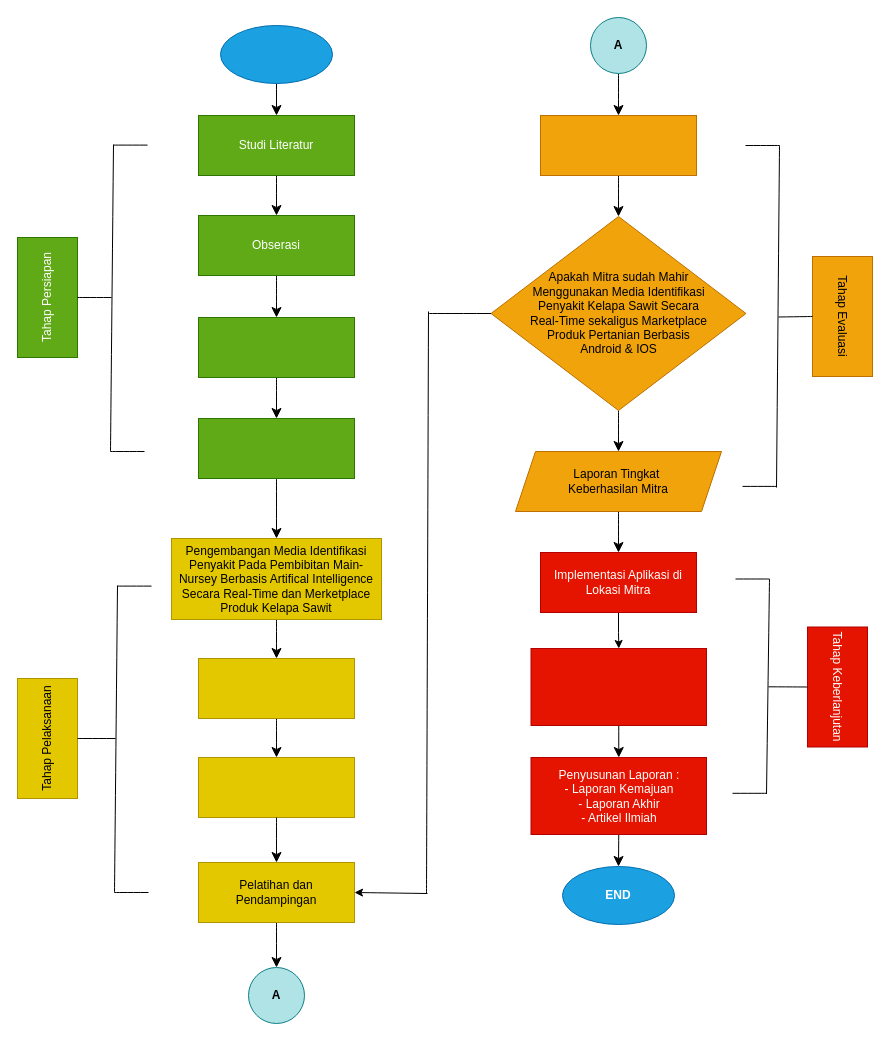
Some shapes in this 890 by 1041 pixel diagram are drawn without their labels. The shapes that lost their labels are listed below. From the top down, each one's centre as x and y in pixels, then its label:
At pixel 276 54: "START".
At pixel 618 145: "Evaluasi Tingkat Pemahaman Mitra".
At pixel 276 347: "Identifikasi Masalah Mitra".
At pixel 276 448: "Pembuatan akun @SawitTron.App di media sosial Instagram dan Tiktok".
At pixel 276 688: "Pembuatan Buku Mitra".
At pixel 618 687: "PublikasiHasil Kegiatan yang telah di terapkan kepada Mitra Melalui Media Sosial".
At pixel 276 787: "Sosialisasi".
